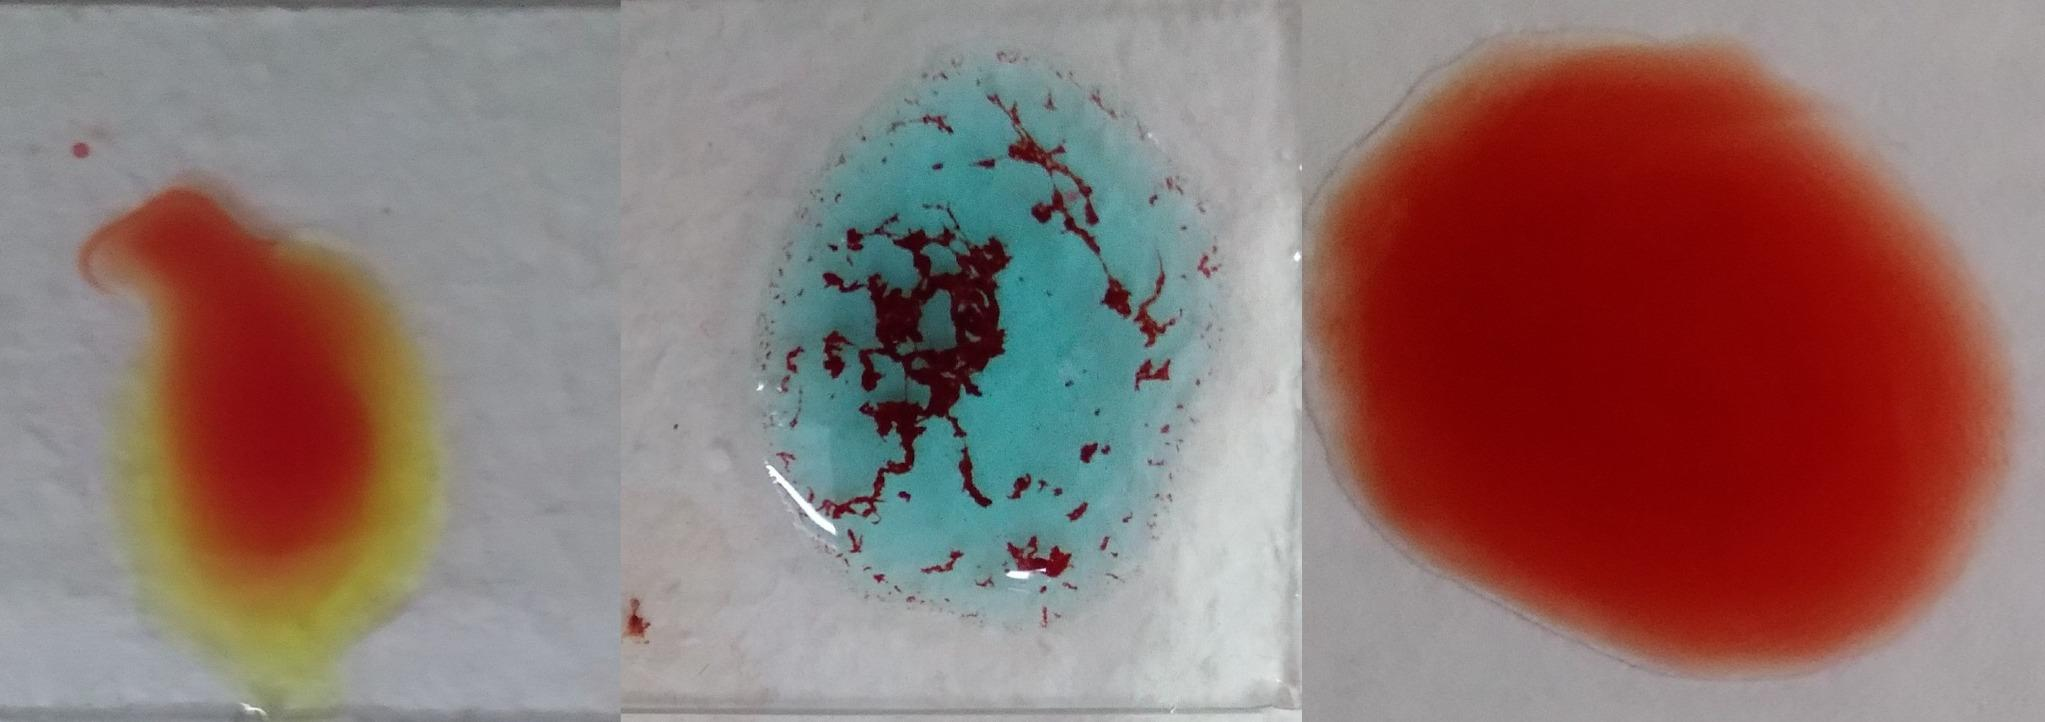A: (749, 48, 1235, 640)
